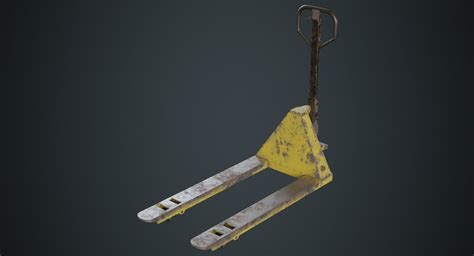Pallet Jack: (136, 4, 340, 250)
